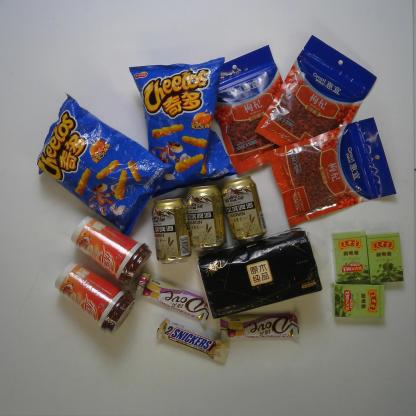Alcohol: (222, 174, 267, 245), (185, 183, 228, 252), (151, 197, 192, 265)
Candy: (365, 232, 405, 285), (331, 231, 370, 283), (334, 283, 385, 318)
Chocolate: (134, 273, 209, 325), (156, 318, 230, 364), (220, 313, 300, 342)
Dried Fruit: (254, 34, 378, 166), (268, 115, 397, 227), (206, 44, 298, 175)
Instant Drink: (54, 261, 136, 334), (70, 216, 152, 286)
Puffed Food: (36, 92, 178, 237), (129, 57, 238, 198)
Tissue: (197, 228, 322, 320)
